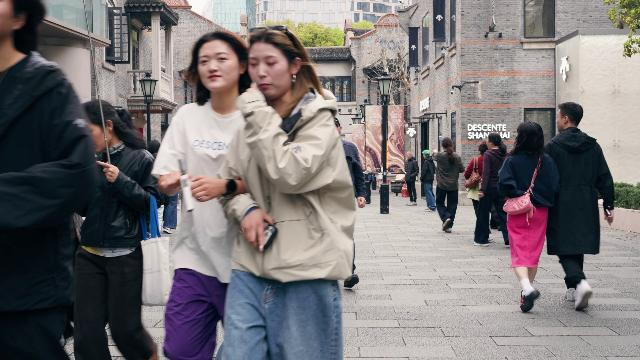person: (214, 23, 356, 360), (0, 0, 104, 360), (75, 100, 164, 360), (544, 102, 614, 310), (498, 121, 560, 312), (474, 132, 511, 248), (431, 136, 464, 233), (464, 141, 498, 230), (420, 149, 436, 211), (404, 151, 420, 206)
